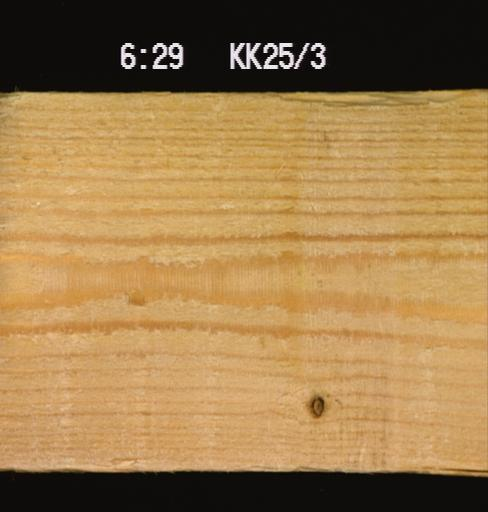dry_knot: (307, 393, 326, 419)
wave: (267, 90, 473, 110)
